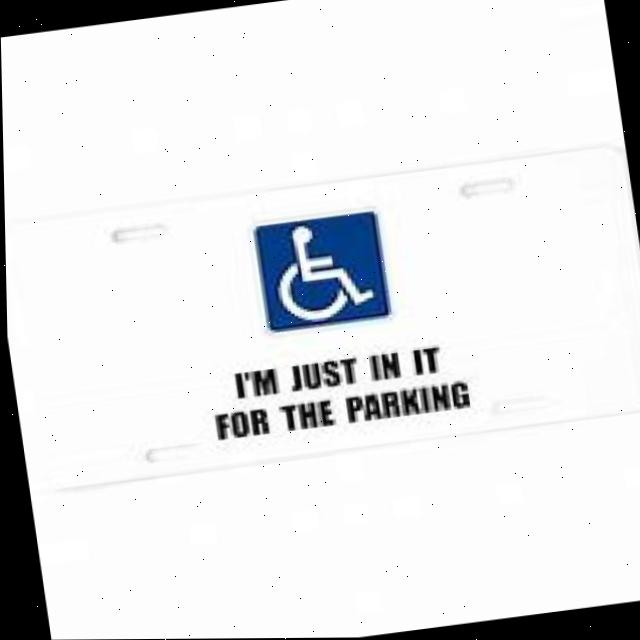symbol_of_access: (250, 211, 390, 333)
